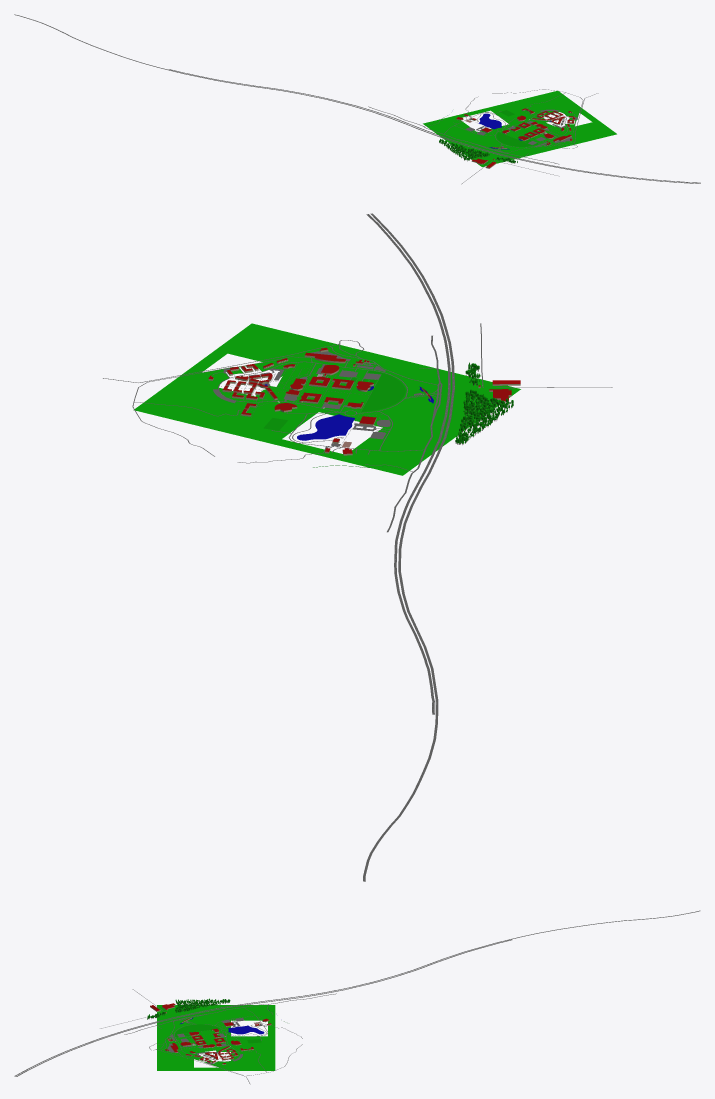
File: campusModel.fbx
3 renders of one model, top to bottom at view 1: azimuth 30°, elevation 25°; view 2: azimuth 150°, elevation 25°; view 3: azimuth 270°, elevation 25°, orthographic. The views are drawn at different scales.
Parts seen in each view (by area): view 1: ditditdit:SurfaceArea4, ditditdit:Road1, ditditdit:Road, ditditdit:Forest, ditditdit:SurfaceArea1; view 2: ditditdit:SurfaceArea4, ditditdit:Road1, ditditdit:Forest, ditditdit:Road, ditditdit:SurfaceArea1; view 3: ditditdit:SurfaceArea4, ditditdit:Road1, ditditdit:Forest, ditditdit:Road, ditditdit:SurfaceArea1.
Boxes of the visible parts, x1,y1,x2,y2 form: ditditdit:SurfaceArea4: [423, 91, 616, 167]; ditditdit:Road1: [14, 14, 700, 184]; ditditdit:Road: [453, 93, 598, 164]; ditditdit:Forest: [439, 139, 489, 161]; ditditdit:SurfaceArea1: [496, 132, 538, 146]; ditditdit:SurfaceArea4: [133, 323, 520, 475]; ditditdit:Road1: [132, 213, 612, 881]; ditditdit:Forest: [455, 389, 513, 444]; ditditdit:Road: [103, 335, 442, 454]; ditditdit:SurfaceArea1: [351, 371, 405, 411]; ditditdit:SurfaceArea4: [157, 1005, 275, 1070]; ditditdit:Road1: [14, 910, 700, 1076]; ditditdit:Forest: [175, 998, 230, 1012]; ditditdit:Road: [124, 1015, 266, 1084]; ditditdit:SurfaceArea1: [175, 1024, 219, 1038].
Size of the model in its own units: 64.25 by 0.5009 by 107.
